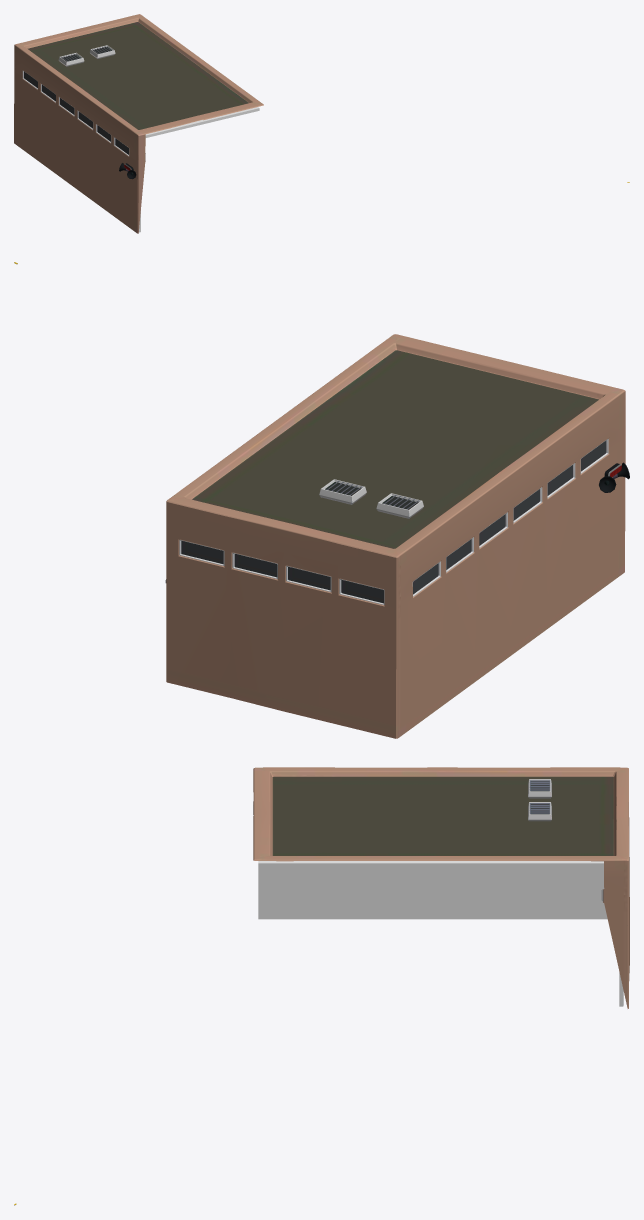
File: factorywalls.glb
3 renders of one model, top to bottom at view 1: azimuth 30°, elevation 25°; view 2: azimuth 150°, elevation 25°; view 3: azimuth 270°, elevation 25°, orthographic. The views are drawn at different scales.
Visible parts, largest first — view 1: node_id32, Box 2 - baked; view 2: node_id32; view 3: node_id32, Box - baked, Box 2 - baked.
Boxes of the visible parts, left/top/right/bottom form: node_id32: left=14, top=14, right=263, bottom=233; Box 2 - baked: left=145, top=107, right=259, bottom=137; node_id32: left=165, top=334, right=625, bottom=738; node_id32: left=253, top=767, right=629, bottom=1008; Box - baked: left=258, top=867, right=607, bottom=919; Box 2 - baked: left=258, top=861, right=603, bottom=867.
Bounding box in the file's own units: 0.00743 × 0.0017 × 0.00626.
Materials: 16 (13 with a texture image).
